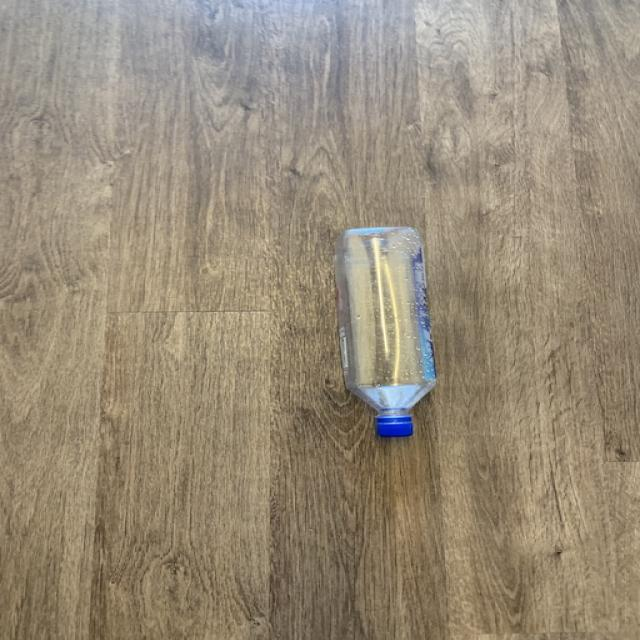Waste: (336, 227, 436, 438)
